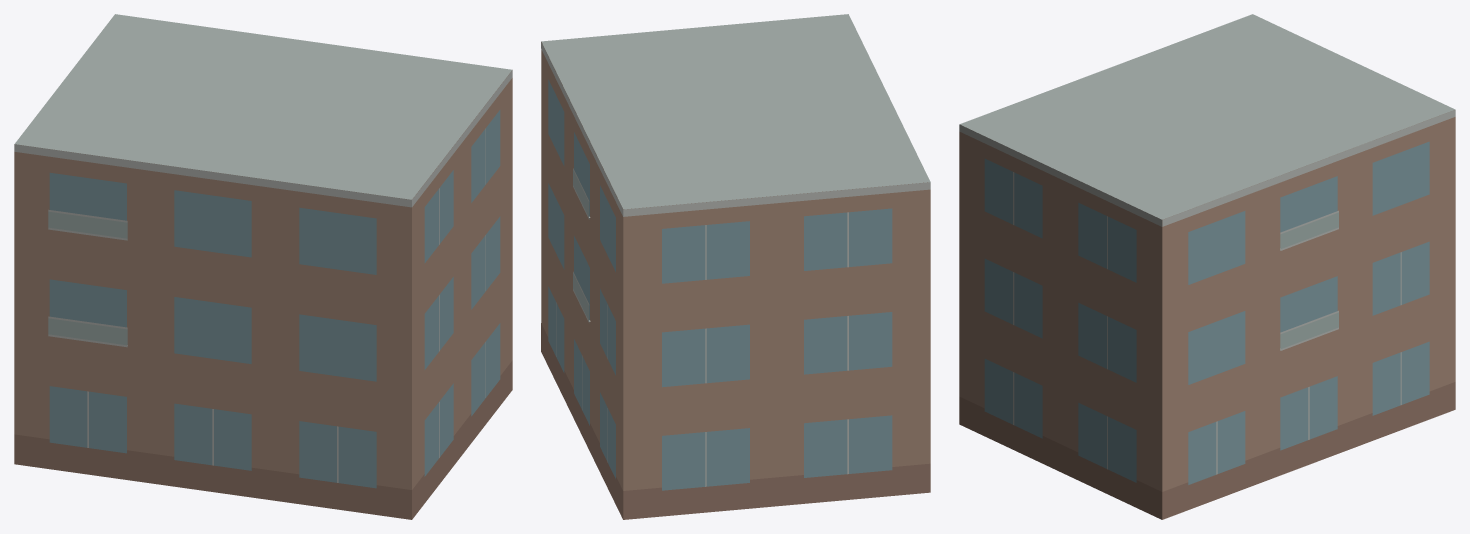
Rendered from survey-upis-32719741.glb.
3 views of the same model, side by side, from view 1: azimuth 30°, elevation 25°; view 2: azimuth 150°, elevation 25°; view 3: azimuth 270°, elevation 25° (orthographic). The views are drawn at different scales.
Visible parts, largest first — view 1: survey-upis-32719741.tmp; view 2: survey-upis-32719741.tmp; view 3: survey-upis-32719741.tmp.
Boxes of the visible parts, x1,y1,x2,y2 form: survey-upis-32719741.tmp: (14,14,512,519); survey-upis-32719741.tmp: (541,14,930,519); survey-upis-32719741.tmp: (959,14,1455,519).
Size of the model in its own units: 15.01 by 10.2 by 15.29.
